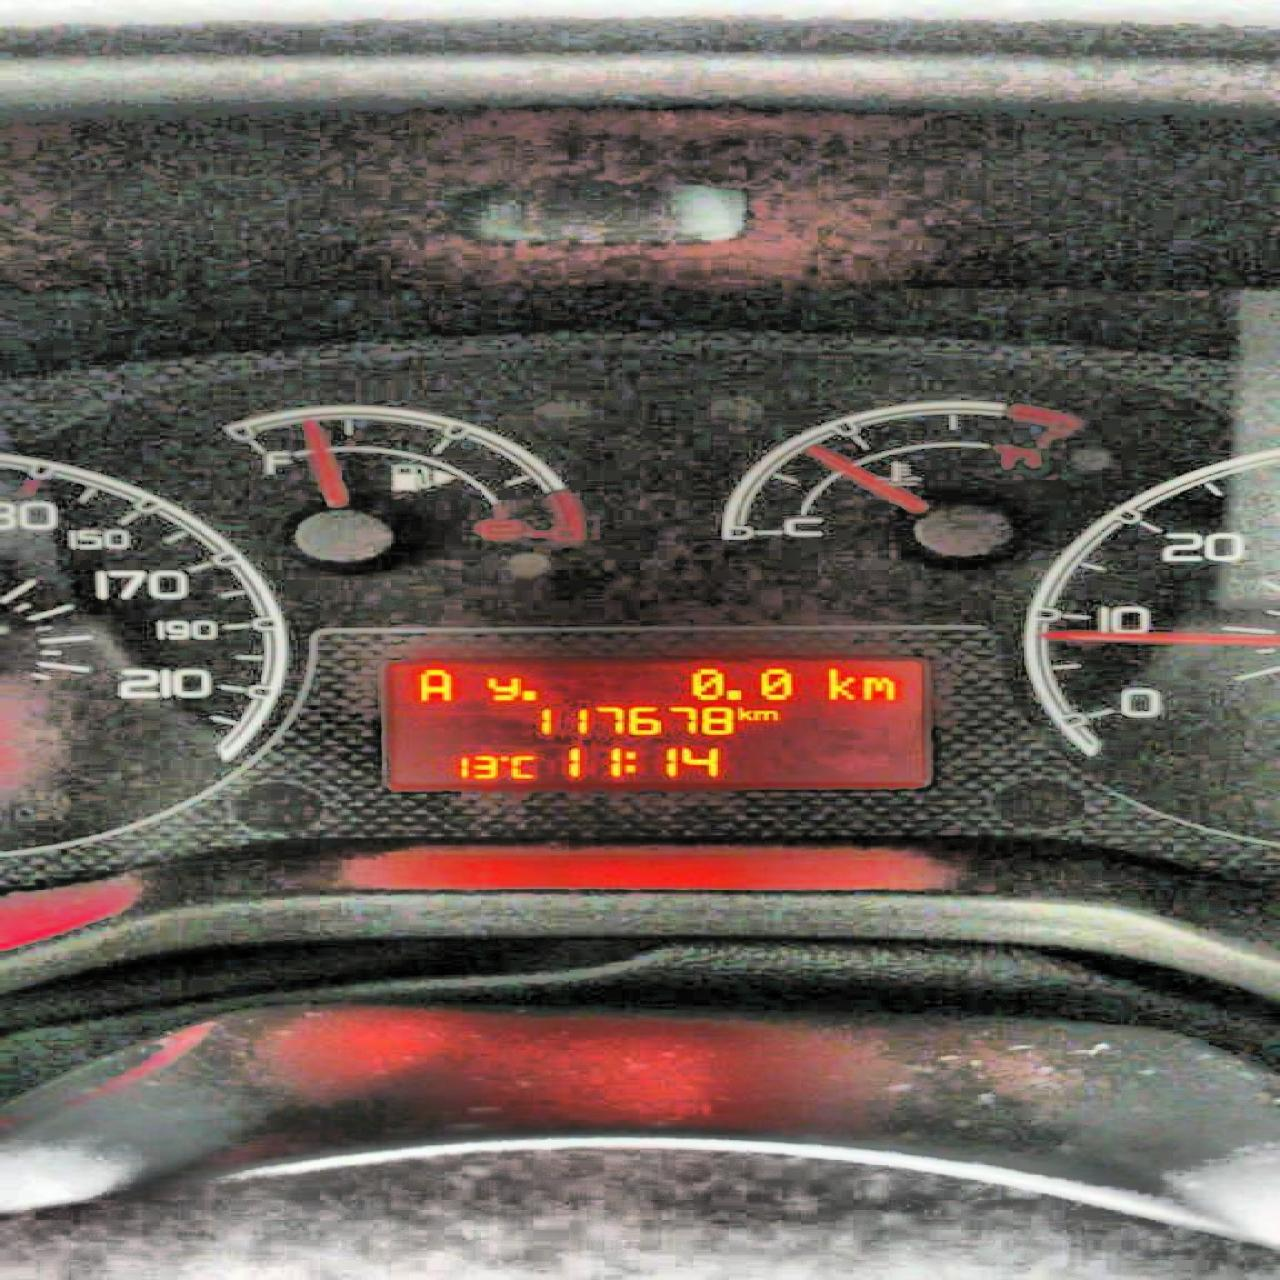-: (518, 688, 543, 702), (724, 686, 744, 700)
0: (687, 666, 724, 699), (756, 667, 791, 701)
1: (565, 745, 583, 781), (660, 745, 678, 779), (536, 707, 553, 737), (605, 745, 620, 779), (573, 704, 587, 737), (454, 754, 469, 782)
3: (471, 753, 496, 778)
4: (678, 744, 719, 777)
6: (625, 703, 660, 736)
7: (591, 704, 625, 735), (665, 704, 697, 734)
8: (700, 704, 731, 735)
X: (413, 666, 451, 703), (824, 665, 856, 699), (858, 673, 896, 701), (484, 674, 518, 701), (509, 753, 536, 778), (622, 748, 640, 776), (751, 708, 778, 722), (733, 703, 751, 722)
odometer: (380, 651, 949, 799)
